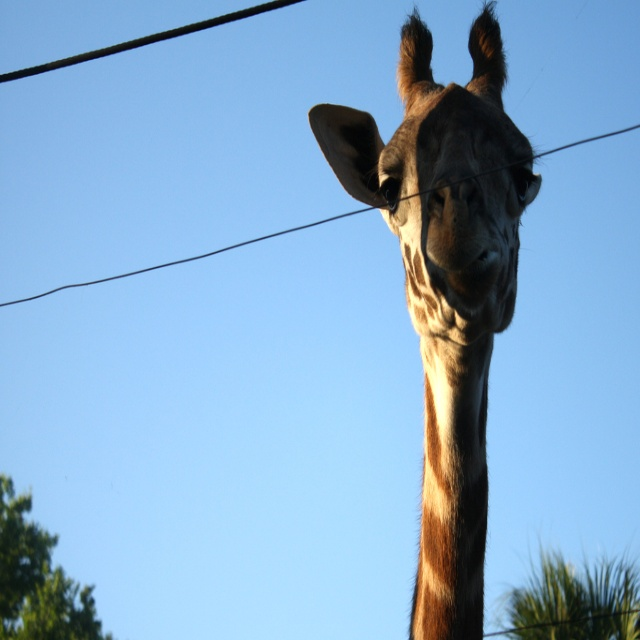Giraffe: (319, 67, 531, 621)
